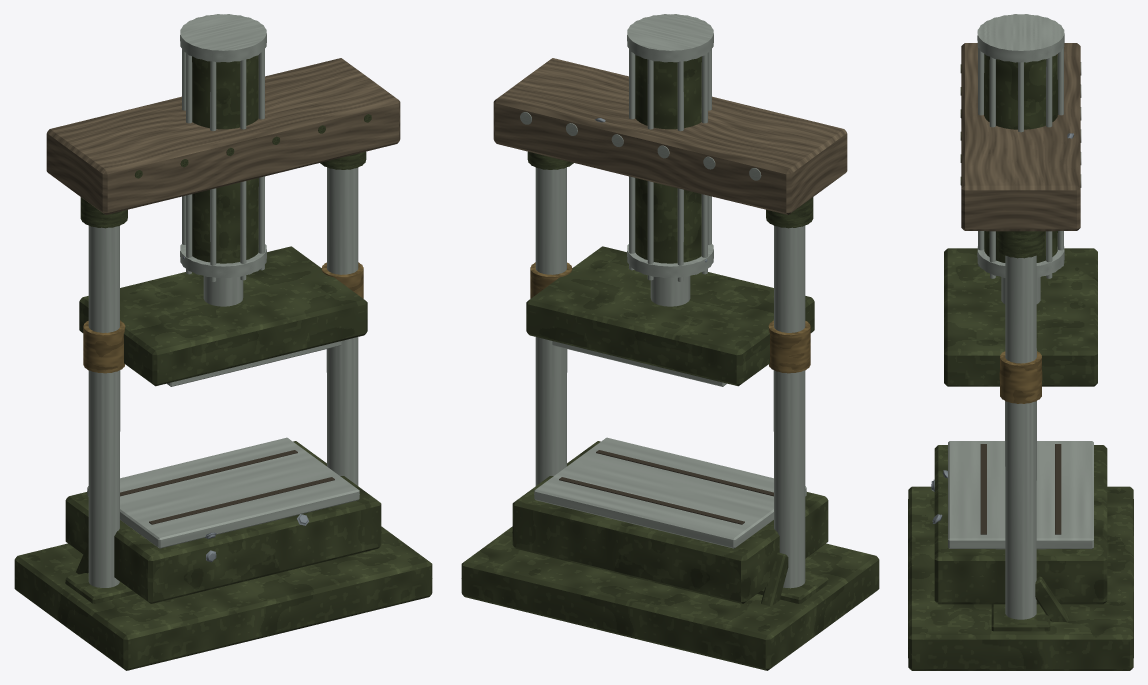
3 renders of one model, left to right at view 1: azimuth 30°, elevation 25°; view 2: azimuth 150°, elevation 25°; view 3: azimuth 270°, elevation 25°, orthographic.
Visible parts, largest first — view 1: olive-painted-field-steel (×2), machined-bearing-steel (×2), quarter-sawn-timber, aged-bronze, mortar-joint-recess; view 2: olive-painted-field-steel (×2), machined-bearing-steel (×2), quarter-sawn-timber, aged-bronze, mortar-joint-recess; view 3: olive-painted-field-steel (×2), machined-bearing-steel, quarter-sawn-timber, aged-bronze, mortar-joint-recess.
Boxes of the visible parts, <box> form: olive-painted-field-steel (×2): <box>14,55,432,670</box>; machined-bearing-steel (×2): <box>87,14,359,587</box>; quarter-sawn-timber: <box>46,58,400,214</box>; aged-bronze: <box>83,262,363,373</box>; mortar-joint-recess: <box>120,450,334,524</box>; olive-painted-field-steel (×2): <box>461,55,879,670</box>; machined-bearing-steel (×2): <box>520,14,806,588</box>; quarter-sawn-timber: <box>493,58,847,214</box>; aged-bronze: <box>530,262,810,373</box>; mortar-joint-recess: <box>559,450,773,524</box>; olive-painted-field-steel (×2): <box>908,54,1133,670</box>; machined-bearing-steel: <box>948,14,1093,619</box>; quarter-sawn-timber: <box>961,43,1080,231</box>; aged-bronze: <box>999,351,1042,403</box>; mortar-joint-recess: <box>980,444,1061,534</box>.
Bounding box in the file's own units: 1.35 × 2.35 × 0.85.
Materials: 7 (5 with a texture image).
